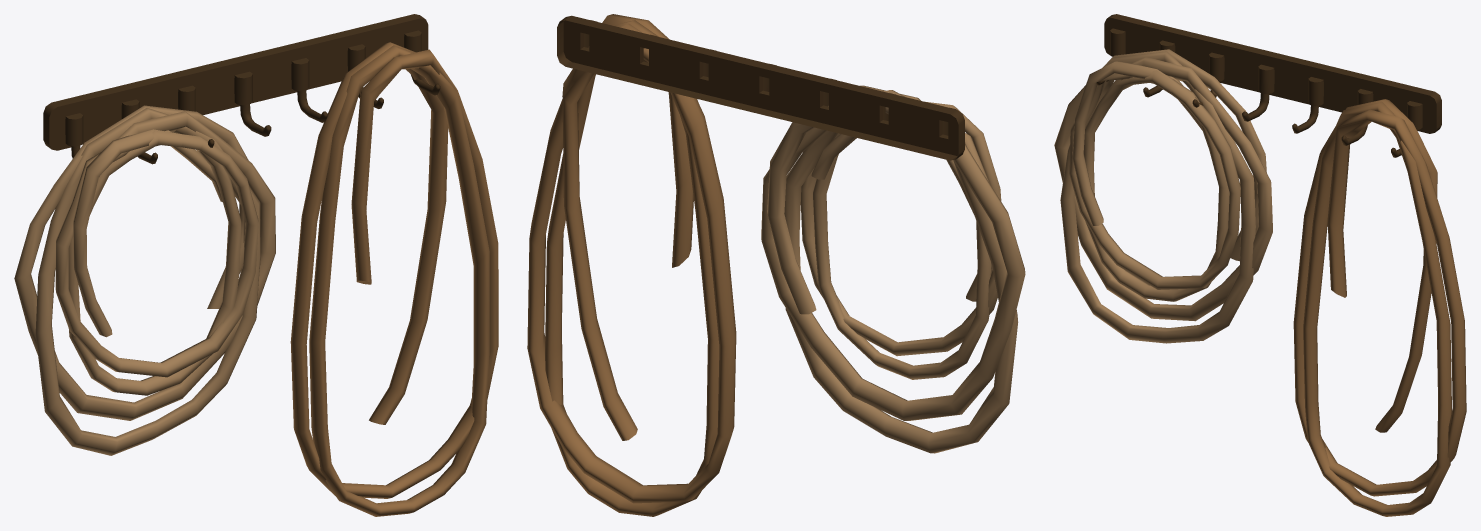
Rendered from SM_Props_FarmHook_01B.obj.
3 views of the same model, side by side, from view 1: azimuth 30°, elevation 25°; view 2: azimuth 150°, elevation 25°; view 3: azimuth 330°, elevation 25° (orthographic). The views are drawn at different scales.
Visible parts, largest first — view 1: SM_Props_FarmHook_01B_Mat_SwatchOverlay_Farm_01_Inst, SM_Props_FarmHook_01B_Mat_SwatchOverlay_Farm_01_Wood_Inst; view 2: SM_Props_FarmHook_01B_Mat_SwatchOverlay_Farm_01_Inst, SM_Props_FarmHook_01B_Mat_SwatchOverlay_Farm_01_Wood_Inst; view 3: SM_Props_FarmHook_01B_Mat_SwatchOverlay_Farm_01_Inst, SM_Props_FarmHook_01B_Mat_SwatchOverlay_Farm_01_Wood_Inst.
Boxes of the visible parts, left/top/right/bottom form: SM_Props_FarmHook_01B_Mat_SwatchOverlay_Farm_01_Inst: left=14, top=42, right=498, bottom=516; SM_Props_FarmHook_01B_Mat_SwatchOverlay_Farm_01_Wood_Inst: left=43, top=14, right=440, bottom=176; SM_Props_FarmHook_01B_Mat_SwatchOverlay_Farm_01_Inst: left=527, top=14, right=1025, bottom=516; SM_Props_FarmHook_01B_Mat_SwatchOverlay_Farm_01_Wood_Inst: left=557, top=15, right=964, bottom=160; SM_Props_FarmHook_01B_Mat_SwatchOverlay_Farm_01_Inst: left=1054, top=49, right=1466, bottom=516; SM_Props_FarmHook_01B_Mat_SwatchOverlay_Farm_01_Wood_Inst: left=1096, top=14, right=1441, bottom=157.
Bounding box in the file's own units: 2.46 × 2.34 × 0.367.
Materials: 2 (2 with a texture image).
